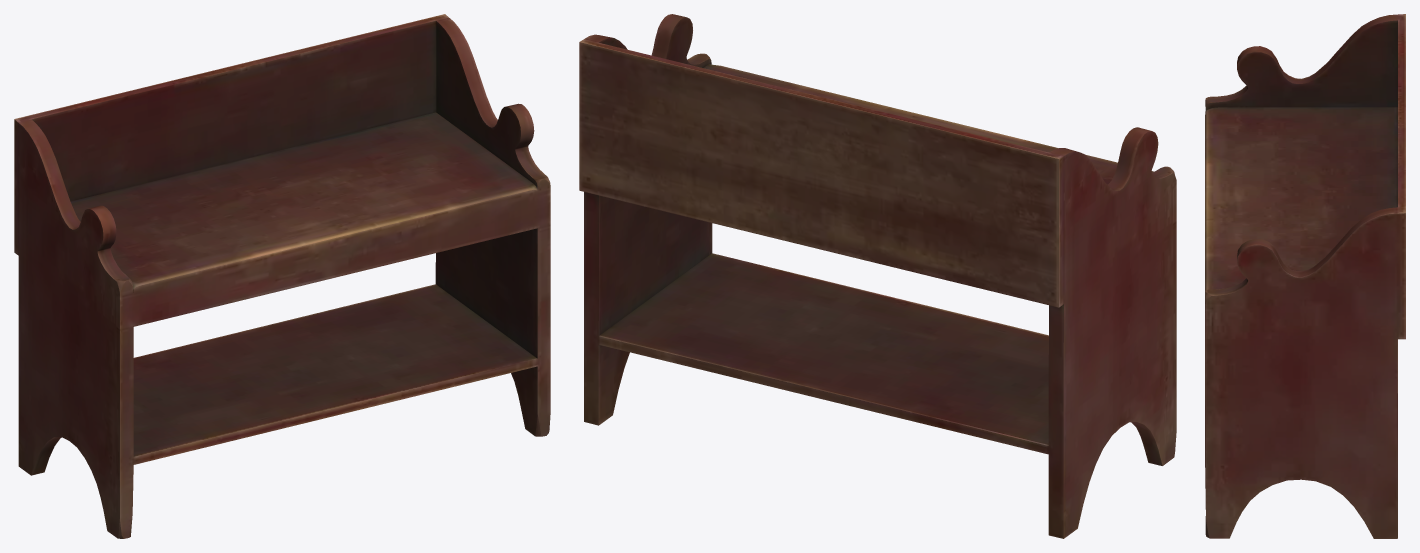
Rendered from prop-painted-wooden-bench.glb.
3 renders of one model, left to right at view 1: azimuth 30°, elevation 25°; view 2: azimuth 150°, elevation 25°; view 3: azimuth 270°, elevation 25°, orthographic. The views are drawn at different scales.
Parts seen in each view (by area): view 1: painted_wooden_bench; view 2: painted_wooden_bench; view 3: painted_wooden_bench.
Boxes of the visible parts, x1,y1,x2,y2 form: painted_wooden_bench: (14, 14, 550, 538); painted_wooden_bench: (579, 14, 1176, 538); painted_wooden_bench: (1205, 14, 1405, 538).
Size of the model in its own units: 1.16 by 0.8893 by 0.4965.
1 material, 1 textured.
